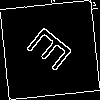E: (25, 25, 82, 79)
